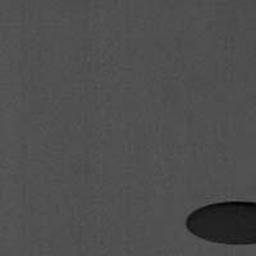Punching: (187, 200, 256, 244)
